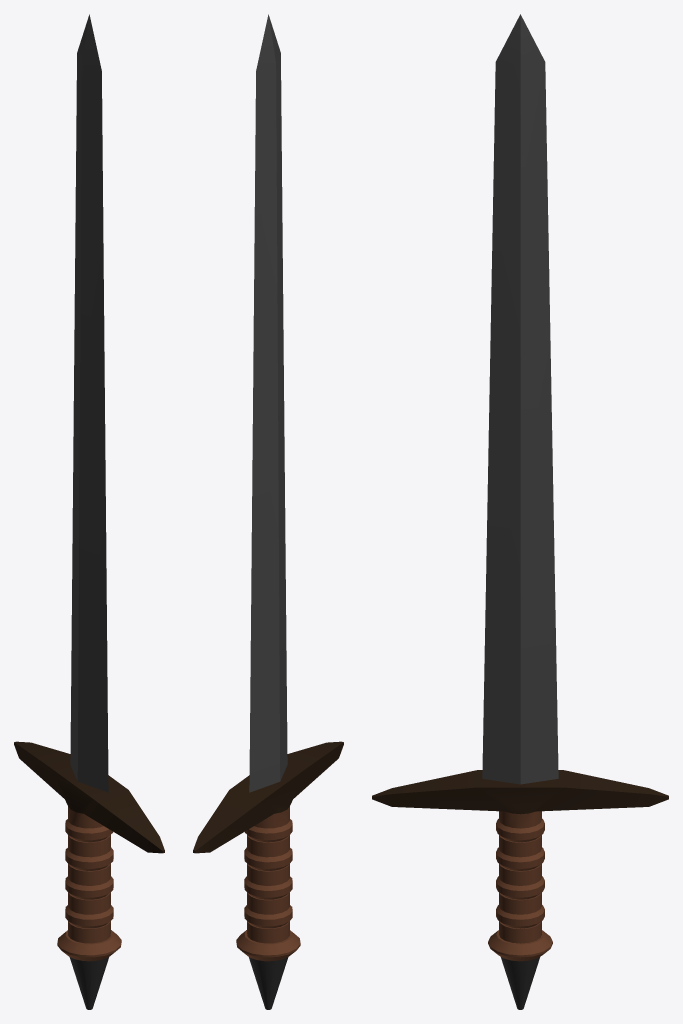
Rendered from sward.fbx.
The picture shows the model from 3 angles, left to right: view 1: azimuth 30°, elevation 25°; view 2: azimuth 150°, elevation 25°; view 3: azimuth 270°, elevation 25°; orthographic projection.
Visible parts, largest first — view 1: Cube; view 2: Cube; view 3: Cube.
Part boxes in pixels (x1,y1,x2,y2): Cube: [14, 14, 164, 1009]; Cube: [193, 14, 343, 1009]; Cube: [372, 14, 668, 1009].
Bounding box in the file's own units: 72.13 × 1220 × 330.
